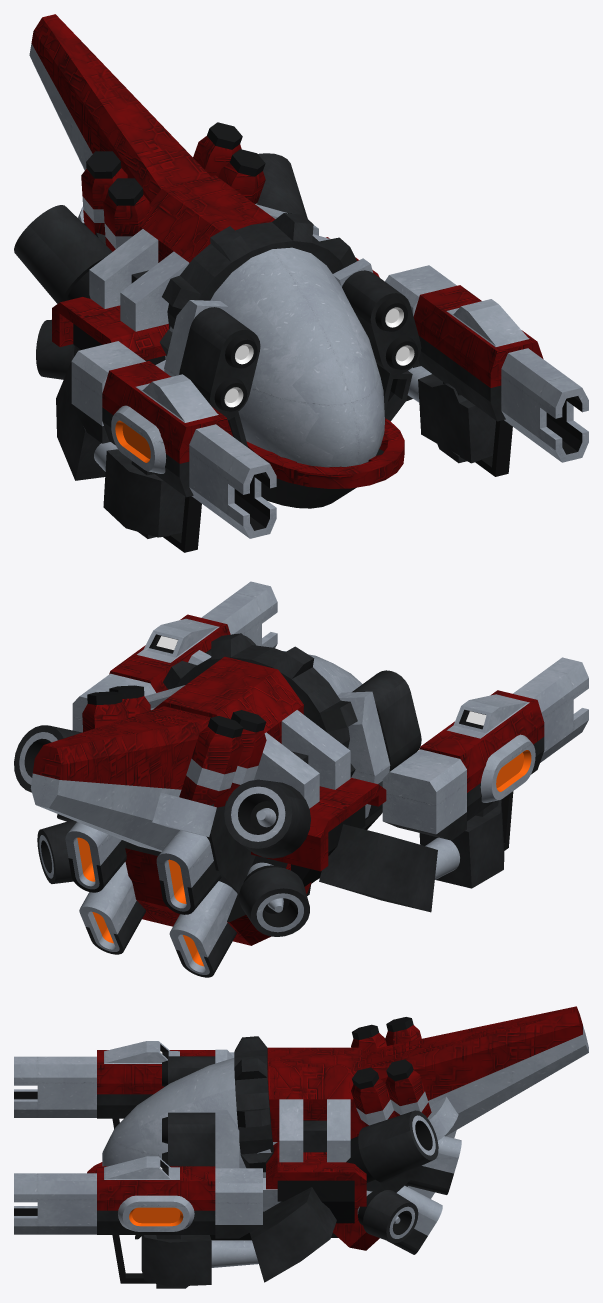
The model's file is Ranger.fbx.
3 renders of one model, top to bottom at view 1: azimuth 30°, elevation 25°; view 2: azimuth 150°, elevation 25°; view 3: azimuth 270°, elevation 25°, orthographic. The views are drawn at different scales.
Visible parts, largest first — view 1: mergedBlocks; view 2: mergedBlocks; view 3: mergedBlocks.
Part boxes in pixels (x1,y1,x2,y2): mergedBlocks: (14,14,588,552); mergedBlocks: (14,581,588,977); mergedBlocks: (14,1006,588,1288).
Size of the model in its own units: 7.1 by 5.3 by 12.13.
